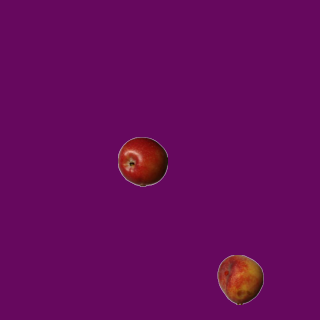Apple Braeburn: (117, 136, 167, 186)
Peach: (215, 254, 265, 304)
